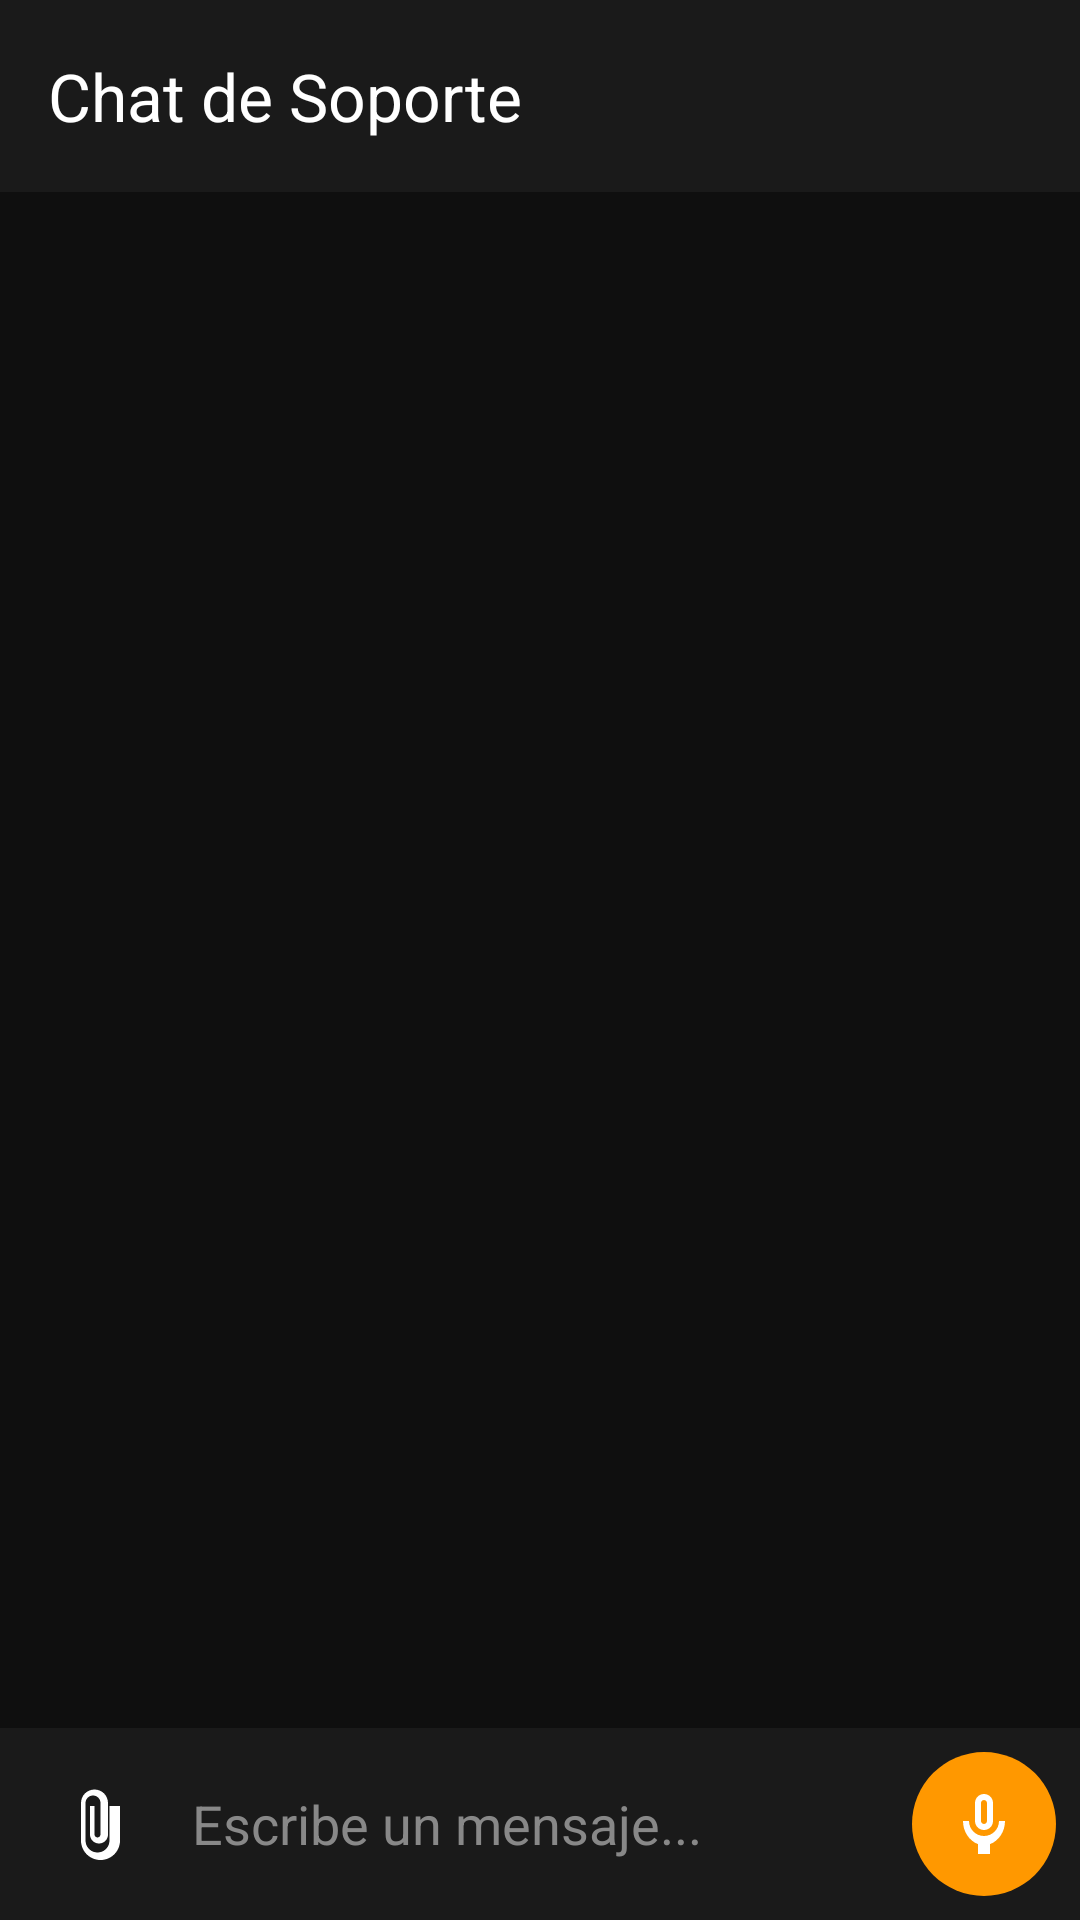

Named icons in this screenshot (1080px x 1920px) and their centers, point (x, y):
attach: point (100, 1824)
mic: point (984, 1824)
